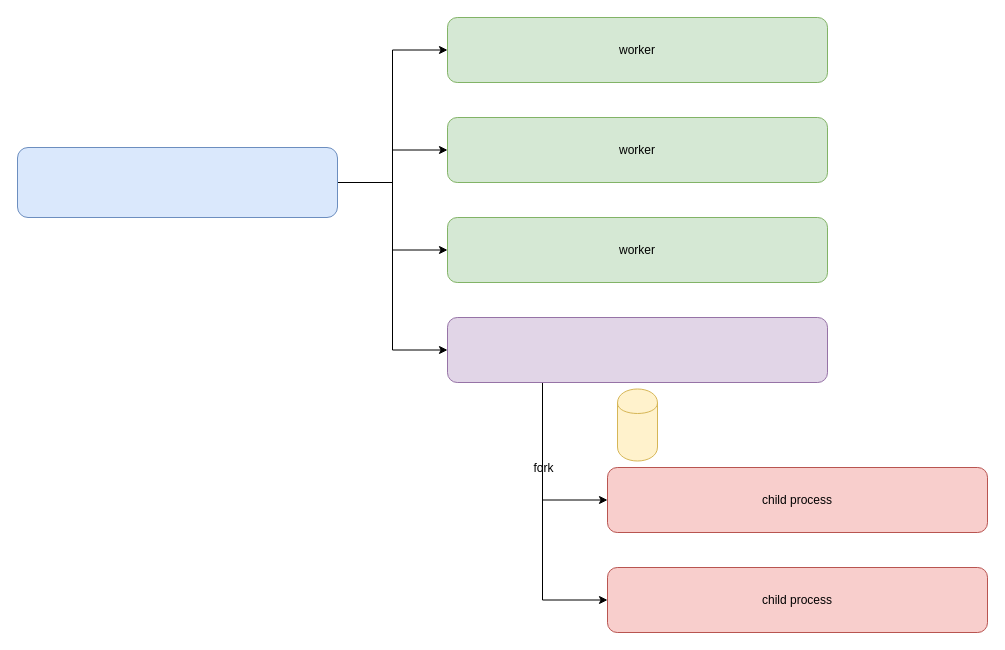
Some shapes in this 1005 by 650 pixel diagram are drawn without their labels. The shapes that lost their labels are listed below. From the top down, each one's centre as x and y in pixels, then its label:
At (x=177, y=182): "master".
At (x=637, y=349): "privileged agent process".
At (x=637, y=424): "pipeline".
